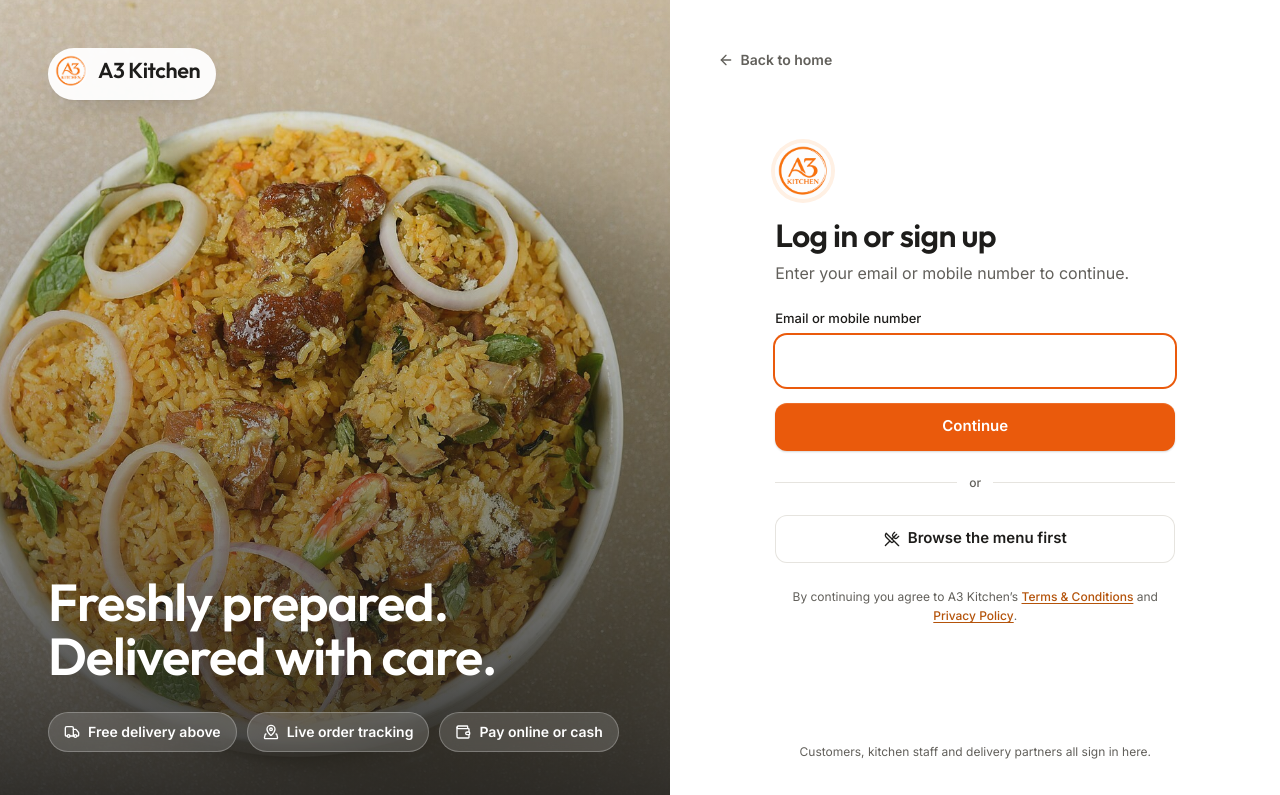
Scenario: one-field login (web) › registered phone → OTP step with the server code filled in
In the field labelled "Email or mobile number": (975, 361) top-left (775, 335), bottom-right (1175, 387), type "9000000003"
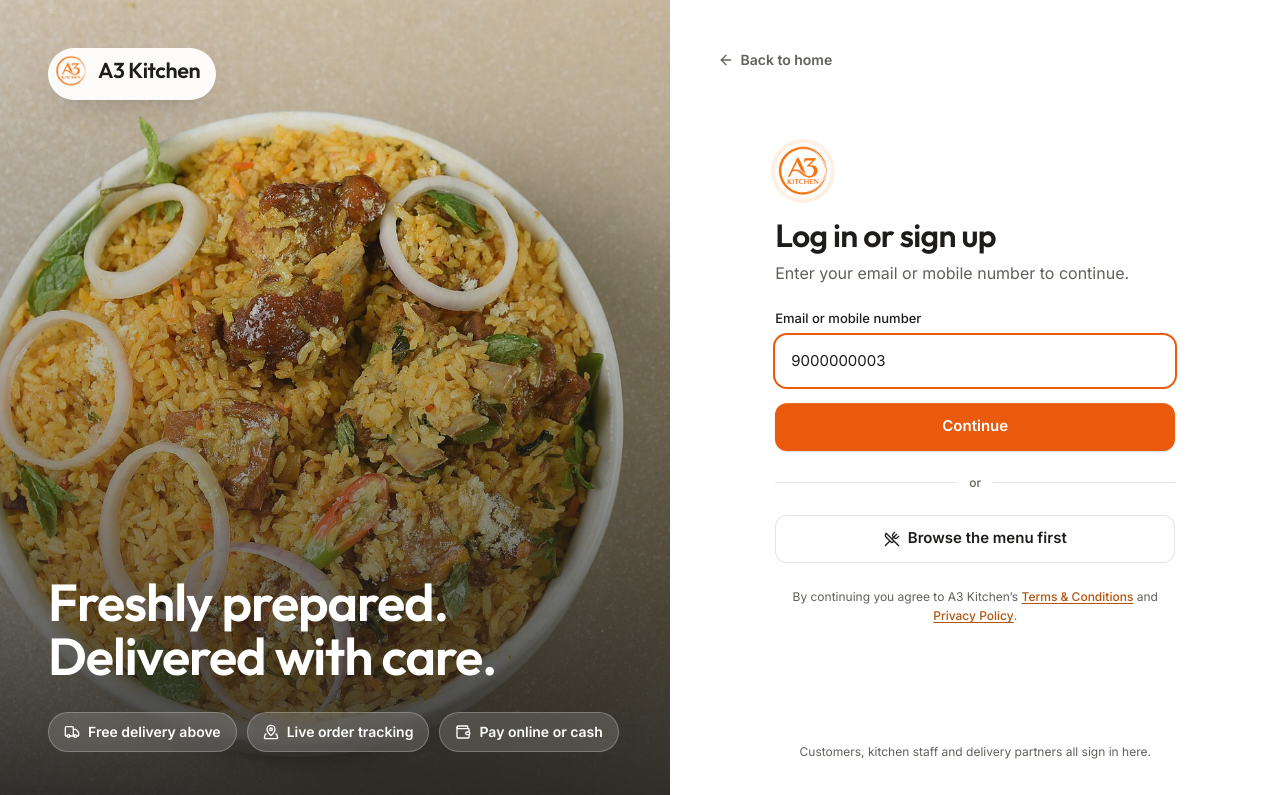
Click the button "Continue": (975, 427) top-left (775, 403), bottom-right (1175, 451)
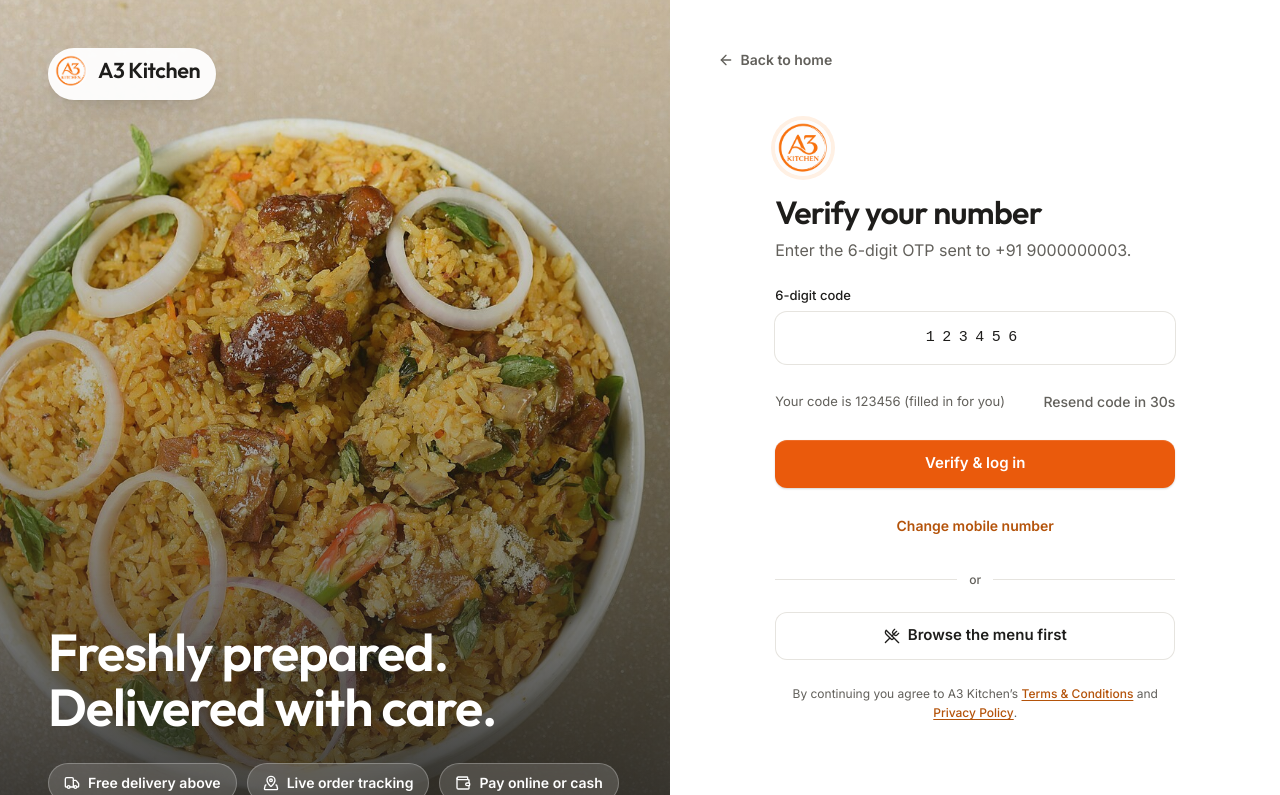
Check: the heading "Verify your number" is shown, box top-left (775, 192), bottom-right (1042, 232)
Check: the text "Your code is 123456 (filled in for you)" is shown, box top-left (775, 392), bottom-right (1005, 411)
